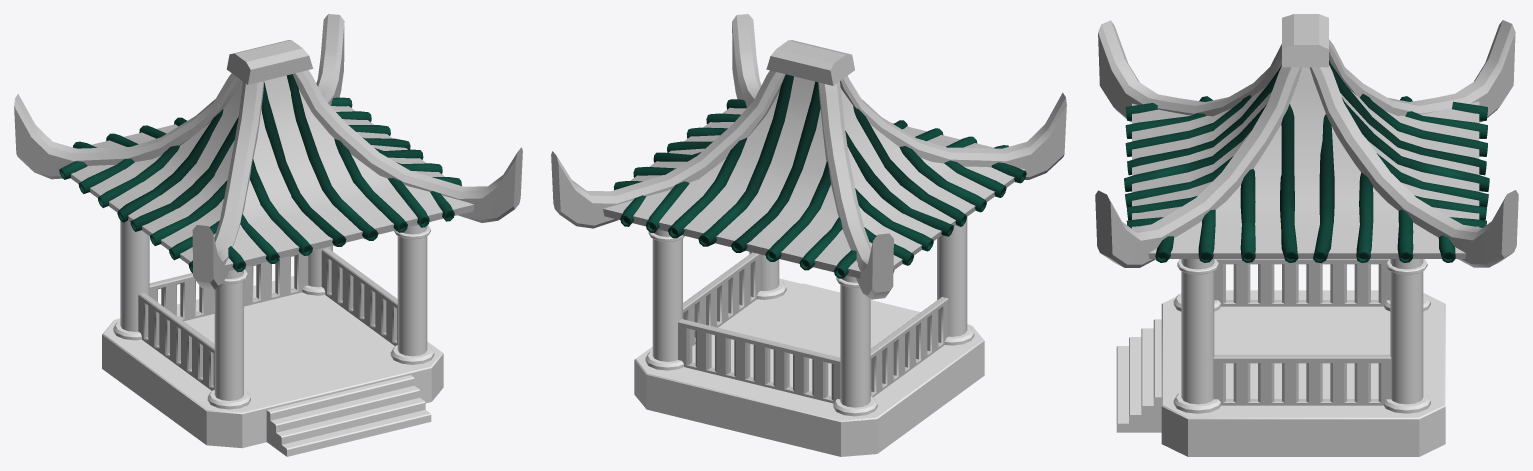
The model's file is Building08.fbx.
The picture shows the model from 3 angles, left to right: view 1: azimuth 30°, elevation 25°; view 2: azimuth 150°, elevation 25°; view 3: azimuth 270°, elevation 25°; orthographic projection. The views are drawn at different scales.
Parts seen in each view (by area): view 1: B8_Pillar; view 2: B8_Pillar; view 3: B8_Pillar.
Boxes of the visible parts, <box> form: B8_Pillar: <box>14,14,522,456</box>; B8_Pillar: <box>551,14,1066,456</box>; B8_Pillar: <box>1095,14,1518,456</box>.
Bounding box in the file's own units: 829 × 777 × 824.
